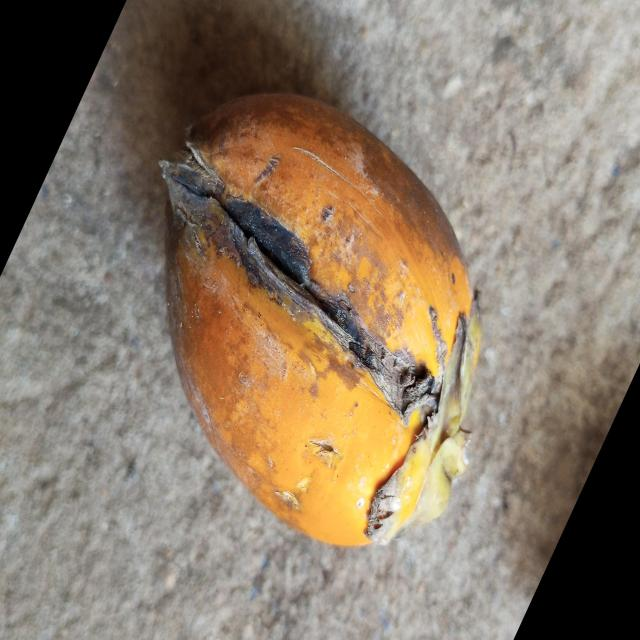damaged: (157, 93, 482, 551)
